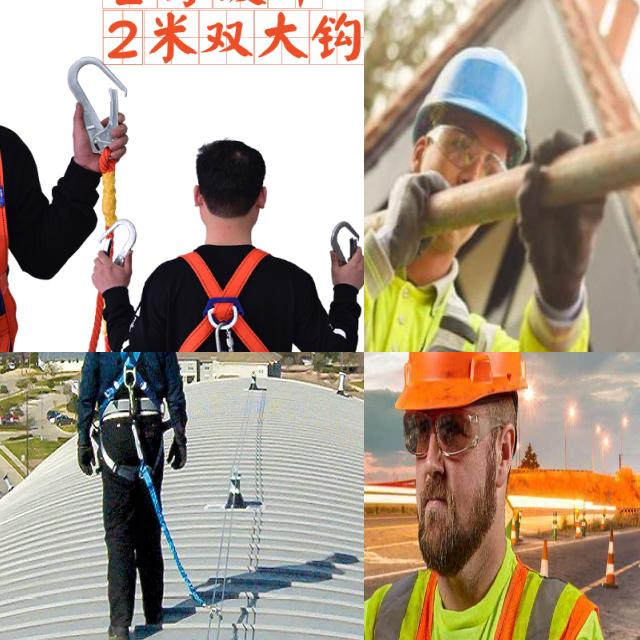Harness: (158, 246, 295, 352), (98, 352, 165, 485)
No_Ear-Protection: (496, 415, 517, 490)
face_nomask: (406, 415, 501, 568)
glasses: (399, 406, 478, 464)
head_helmet: (388, 352, 529, 410)
person: (364, 352, 637, 640)
vest: (364, 559, 605, 640)
